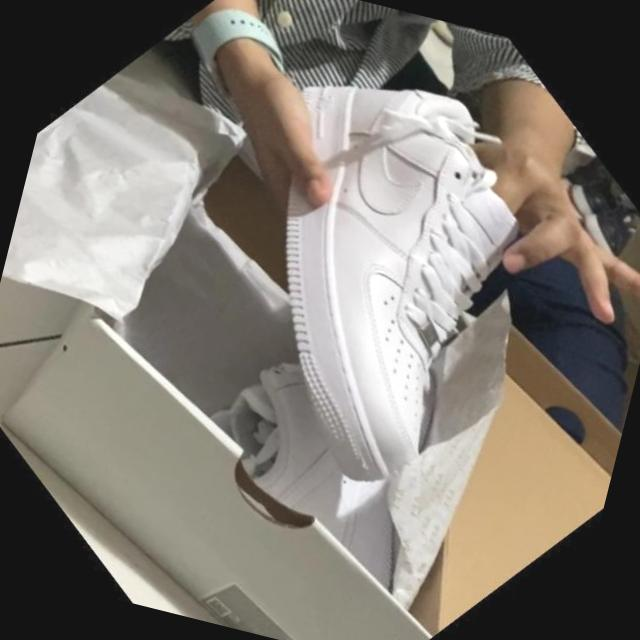nike_original_airforce: (89, 0, 640, 546)
